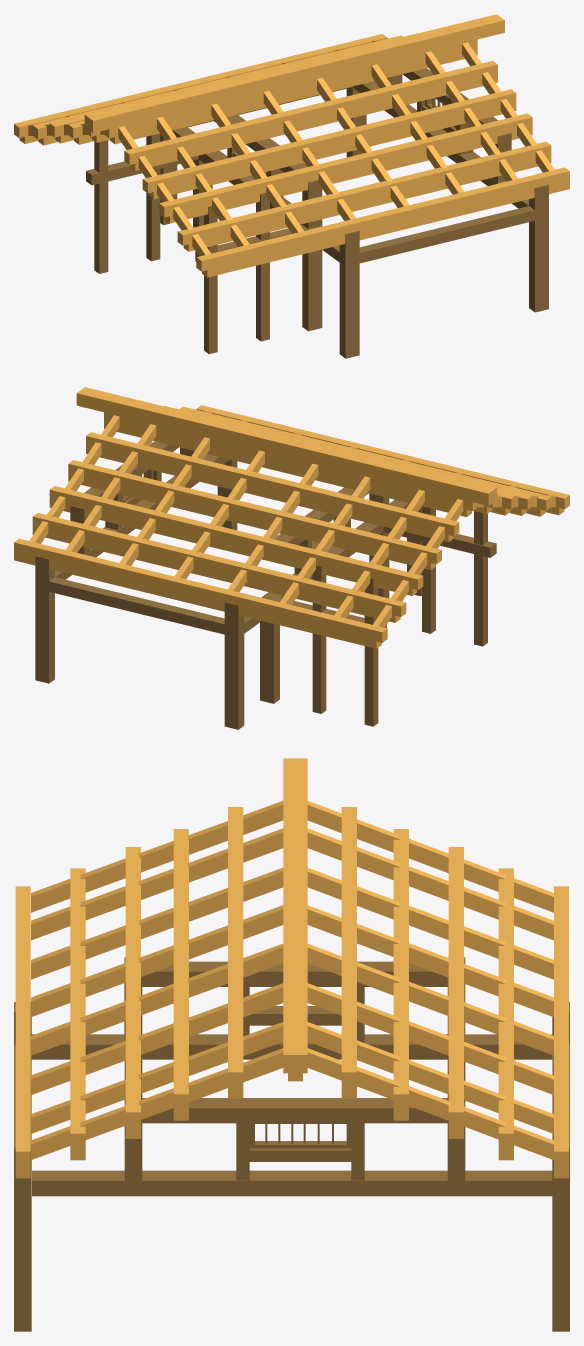
File: Decor.fbx
3 renders of one model, top to bottom at view 1: azimuth 30°, elevation 25°; view 2: azimuth 150°, elevation 25°; view 3: azimuth 270°, elevation 25°, orthographic. The views are drawn at different scales.
Visible parts, largest first — view 1: Woodenbricks.001, Woodenbricks; view 2: Woodenbricks.001, Woodenbricks; view 3: Woodenbricks.001, Woodenbricks.
Boxes of the visible parts, x1=… form: Woodenbricks.001: x1=14, y1=14, x2=569, y2=277; Woodenbricks: x1=86, y1=68, x2=548, y2=358; Woodenbricks.001: x1=14, y1=387, x2=569, y2=648; Woodenbricks: x1=35, y1=441, x2=496, y2=729; Woodenbricks.001: x1=15, y1=758, x2=568, y2=1178; Woodenbricks: x1=14, y1=957, x2=569, y2=1331.
Size of the model in its own units: 764 by 373 by 605.
